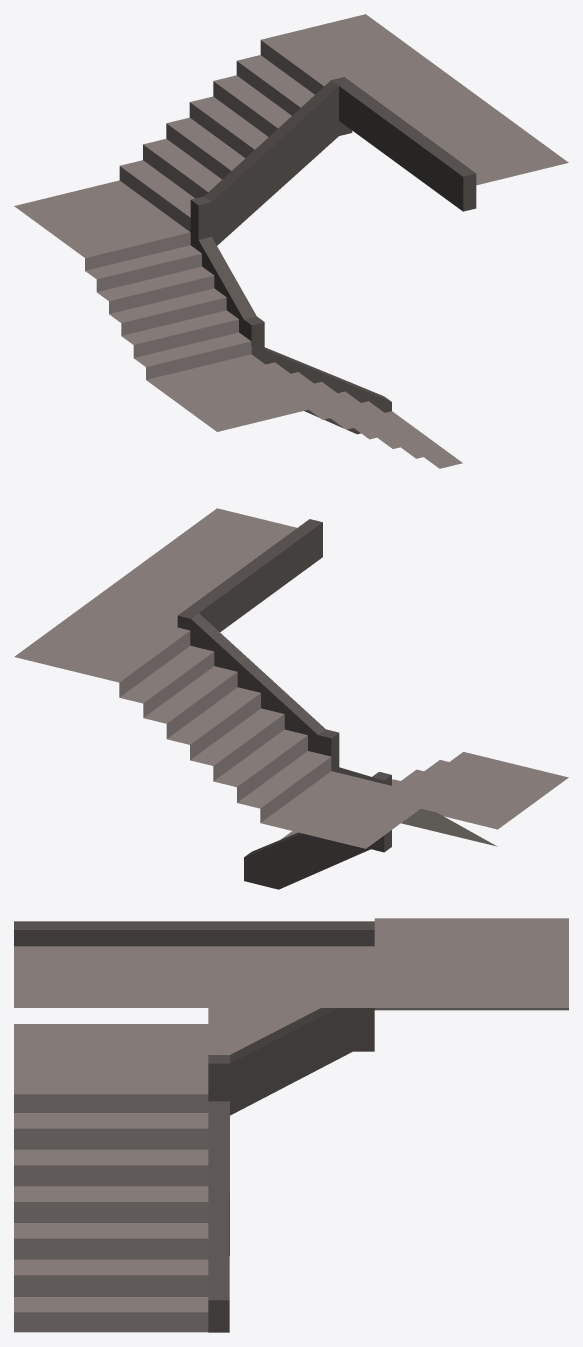
Rendered from Stairwell.glb.
The picture shows the model from 3 angles, top to bottom: view 1: azimuth 30°, elevation 25°; view 2: azimuth 150°, elevation 25°; view 3: azimuth 270°, elevation 25°; orthographic projection. The views are drawn at different scales.
Parts seen in each view (by area): view 1: Staircase, StaircaseBlockade; view 2: Staircase, StaircaseBlockade; view 3: Staircase, StaircaseBlockade.
Boxes of the visible parts, x1,y1,x2,y2 form: Staircase: (14,14,568,468); StaircaseBlockade: (392,121,476,188); Staircase: (14,508,568,889); StaircaseBlockade: (239,519,322,585); Staircase: (14,918,568,1332); StaircaseBlockade: (14,921,207,946).
Size of the model in its own units: 4.71 by 3.85 by 4.71.
Materials: 1 (1 with a texture image).
